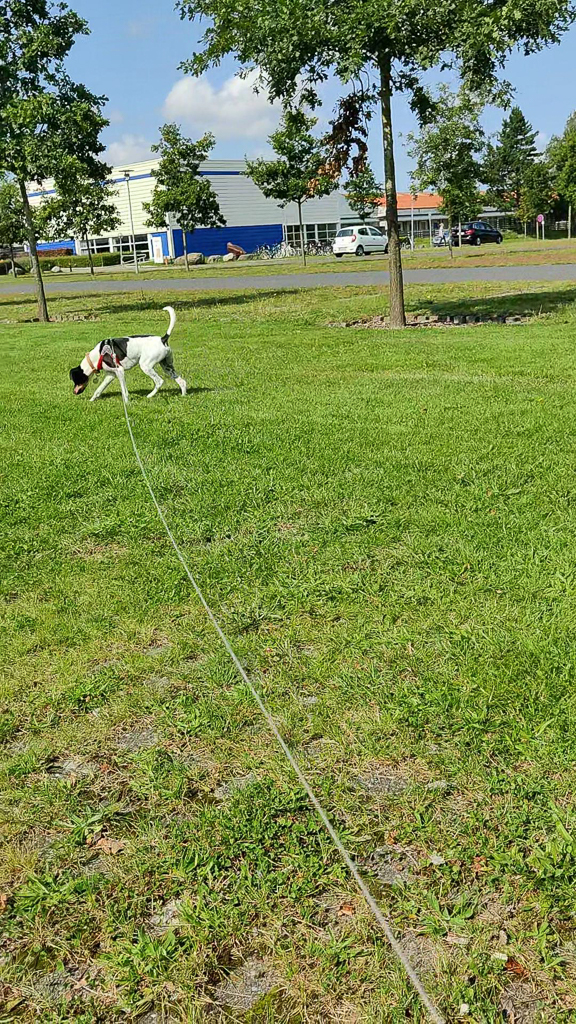Dog: (61, 301, 195, 409)
